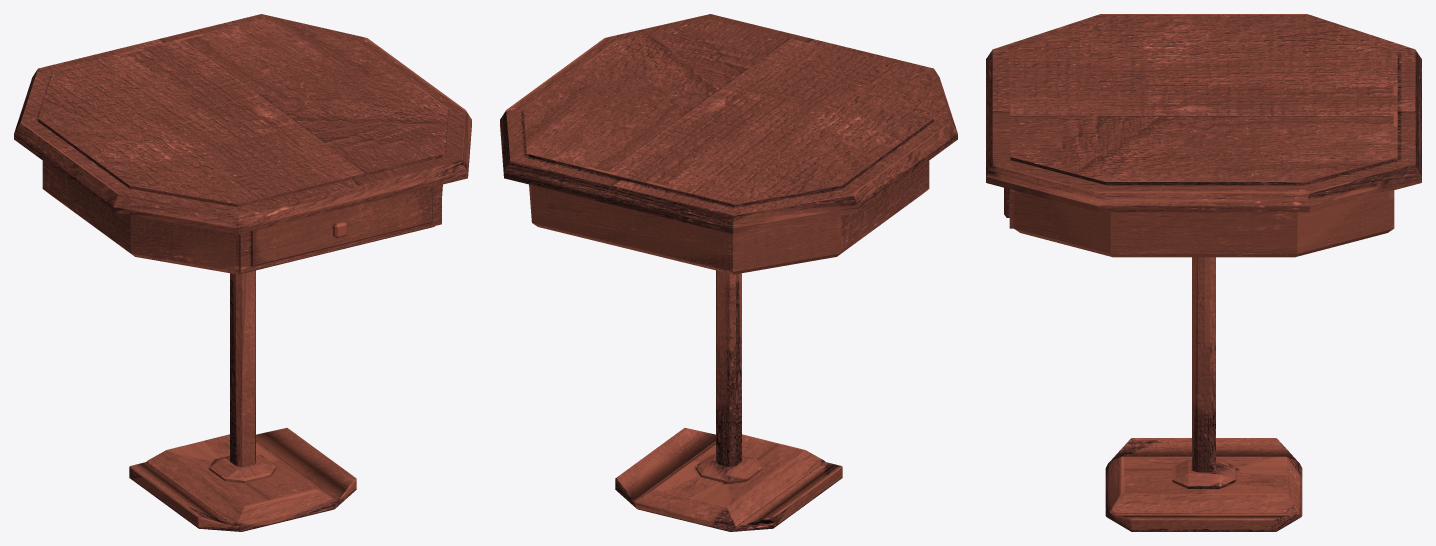
The model's file is smallTable.fbx.
3 renders of one model, left to right at view 1: azimuth 30°, elevation 25°; view 2: azimuth 150°, elevation 25°; view 3: azimuth 270°, elevation 25°, orthographic. The views are drawn at different scales.
Parts seen in each view (by area): view 1: Table_connectTop; view 2: Table_connectTop; view 3: Table_connectTop.
Boxes of the visible parts, bbox=[...] form: Table_connectTop: bbox=[14, 14, 471, 531]; Table_connectTop: bbox=[500, 14, 957, 531]; Table_connectTop: bbox=[986, 14, 1421, 531].
Bounding box in the file's own units: 373 × 372 × 373.
1 material, 1 textured.
